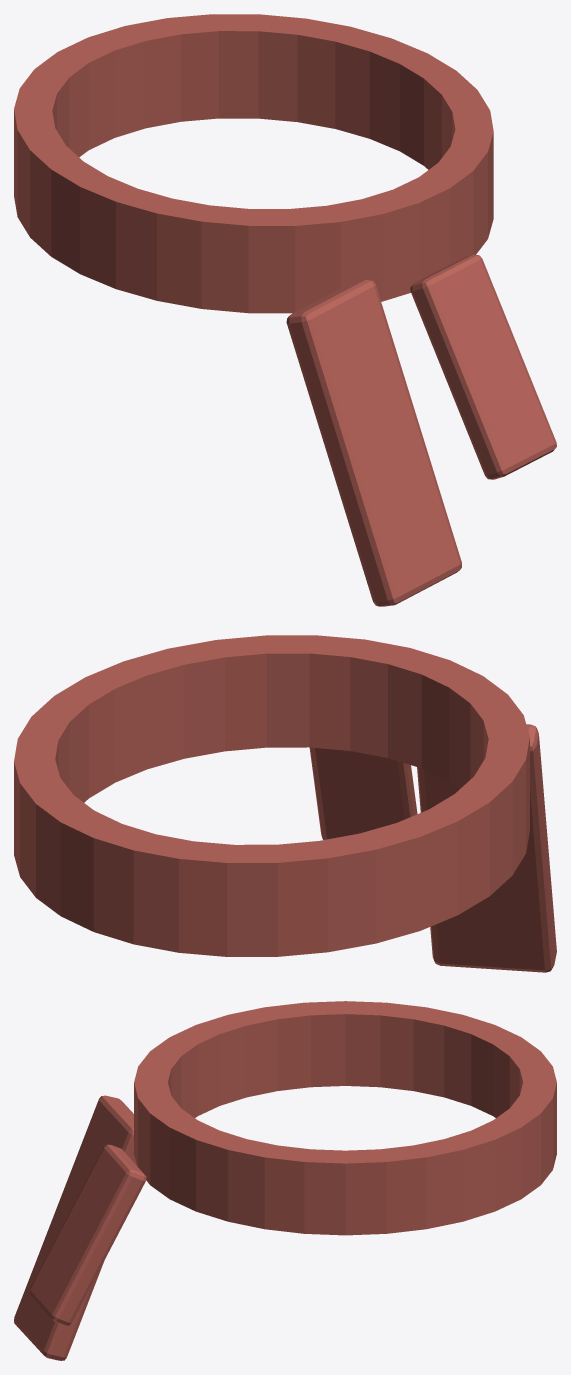
File: scarf_red.glb
3 views of the same model, one above another, from view 1: azimuth 30°, elevation 25°; view 2: azimuth 150°, elevation 25°; view 3: azimuth 270°, elevation 25° (orthographic). The views are drawn at different scales.
Parts seen in each view (by area): view 1: scarf_red; view 2: scarf_red; view 3: scarf_red.
Part boxes in pixels (left/top/right/bottom): scarf_red: left=14, top=14, right=556, bottom=606; scarf_red: left=14, top=635, right=556, bottom=972; scarf_red: left=14, top=1001, right=556, bottom=1360.
Bounding box in the file's own units: 0.388 × 0.3026 × 0.548.
